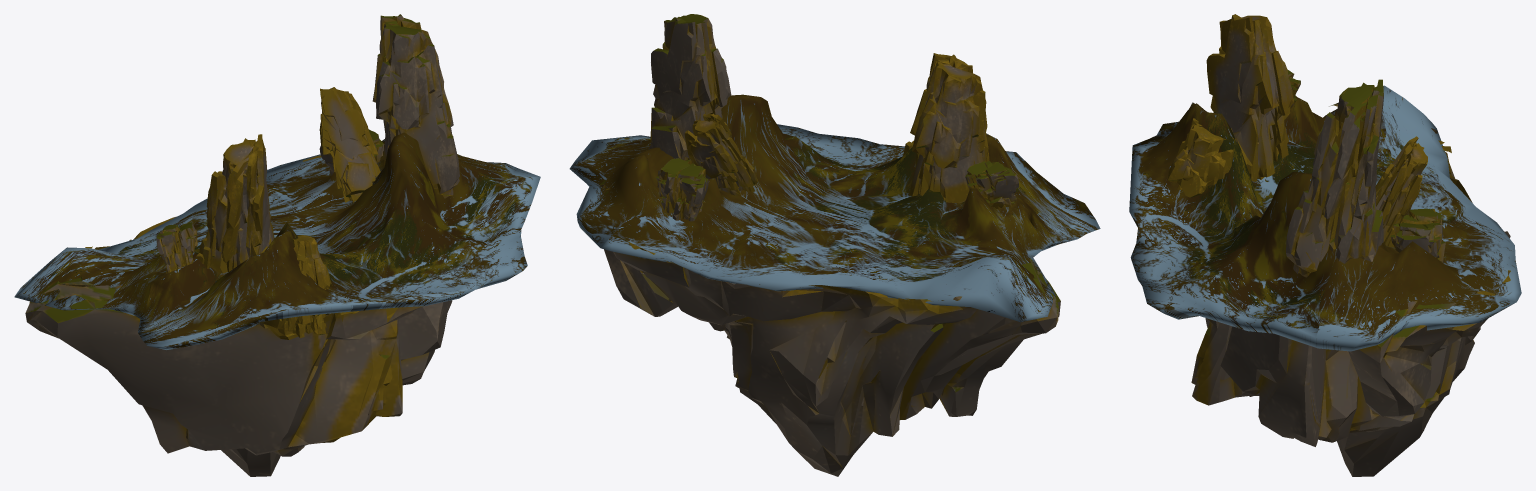
The picture shows the model from 3 angles, left to right: view 1: azimuth 30°, elevation 25°; view 2: azimuth 150°, elevation 25°; view 3: azimuth 270°, elevation 25°; orthographic projection. The views are drawn at different scales.
Parts seen in each view (by area): view 1: Plane.003, Cliff_A_v02_Low_Poly.001, Cliff_A_v02_Low_Poly.045, Cliff_A_v02_Low_Poly.023; view 2: Plane.003, Cliff_A_v02_Low_Poly.001, Cliff_A_v02_Low_Poly.045, Cliff_A_v02_Low_Poly.023; view 3: Plane.003, Cliff_A_v02_Low_Poly.001, Cliff_A_v02_Low_Poly.045, Cliff_A_v02_Low_Poly.023.
Part boxes in pixels (<box>): Plane.003: <box>14,132,540,349</box>; Cliff_A_v02_Low_Poly.001: <box>25,155,452,476</box>; Cliff_A_v02_Low_Poly.045: <box>319,14,459,202</box>; Cliff_A_v02_Low_Poly.023: <box>156,134,332,339</box>; Plane.003: <box>569,94,1100,322</box>; Cliff_A_v02_Low_Poly.001: <box>595,180,1060,476</box>; Cliff_A_v02_Low_Poly.045: <box>648,14,757,221</box>; Cliff_A_v02_Low_Poly.023: <box>903,53,1018,209</box>; Plane.003: <box>1129,85,1521,351</box>; Cliff_A_v02_Low_Poly.001: <box>1191,102,1510,476</box>; Cliff_A_v02_Low_Poly.045: <box>1286,79,1445,277</box>; Cliff_A_v02_Low_Poly.023: <box>1167,14,1300,197</box>.
Size of the model in its own units: 8141 by 6720 by 5131.
